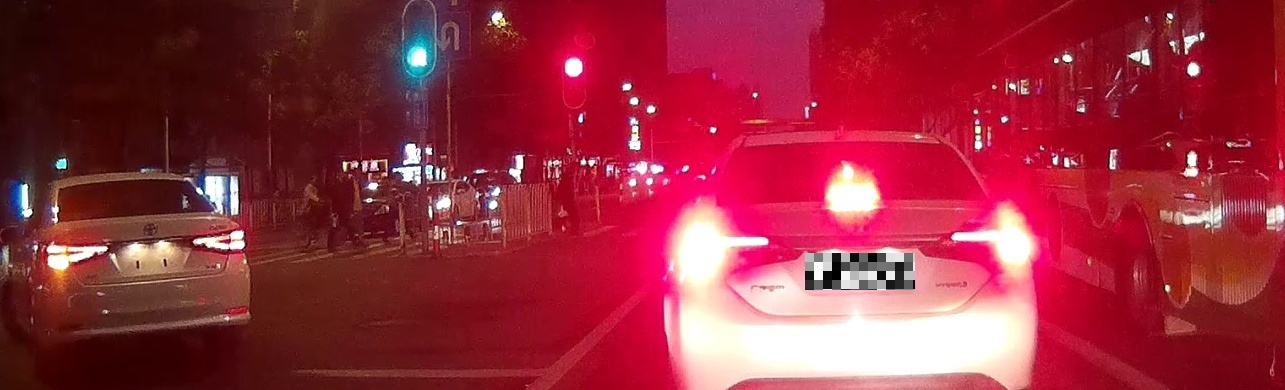L_light: (666, 220, 769, 273), (46, 244, 109, 271)
R_light: (950, 219, 1037, 269), (191, 229, 245, 252)
T_light: (826, 183, 880, 201), (115, 180, 142, 186)
night-brake: (662, 129, 1038, 390)
night-left: (44, 171, 251, 381)
plate_1: (805, 253, 915, 290)
